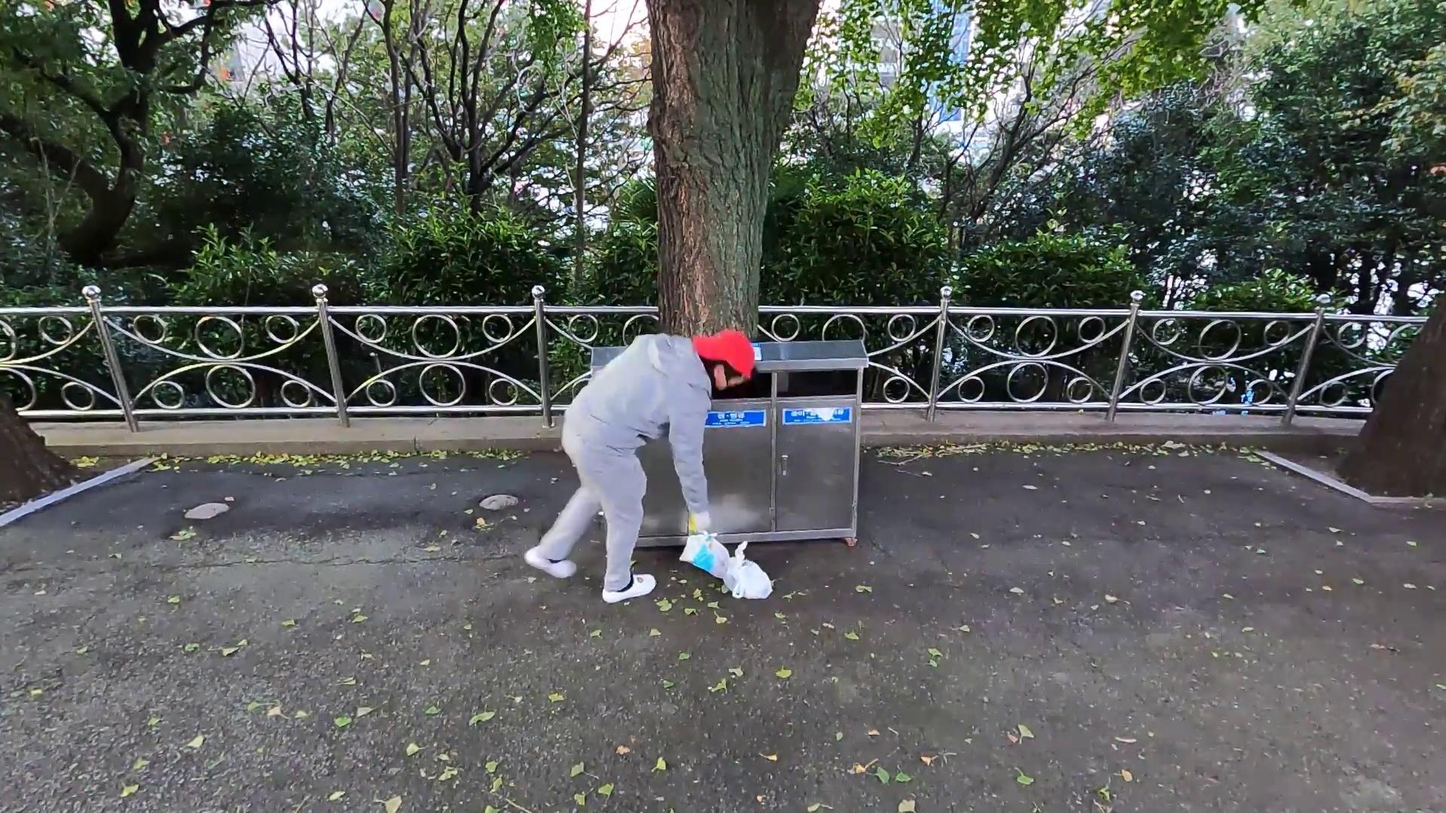person: (523, 331, 754, 602)
trash: (680, 515, 739, 587), (712, 535, 777, 598)
